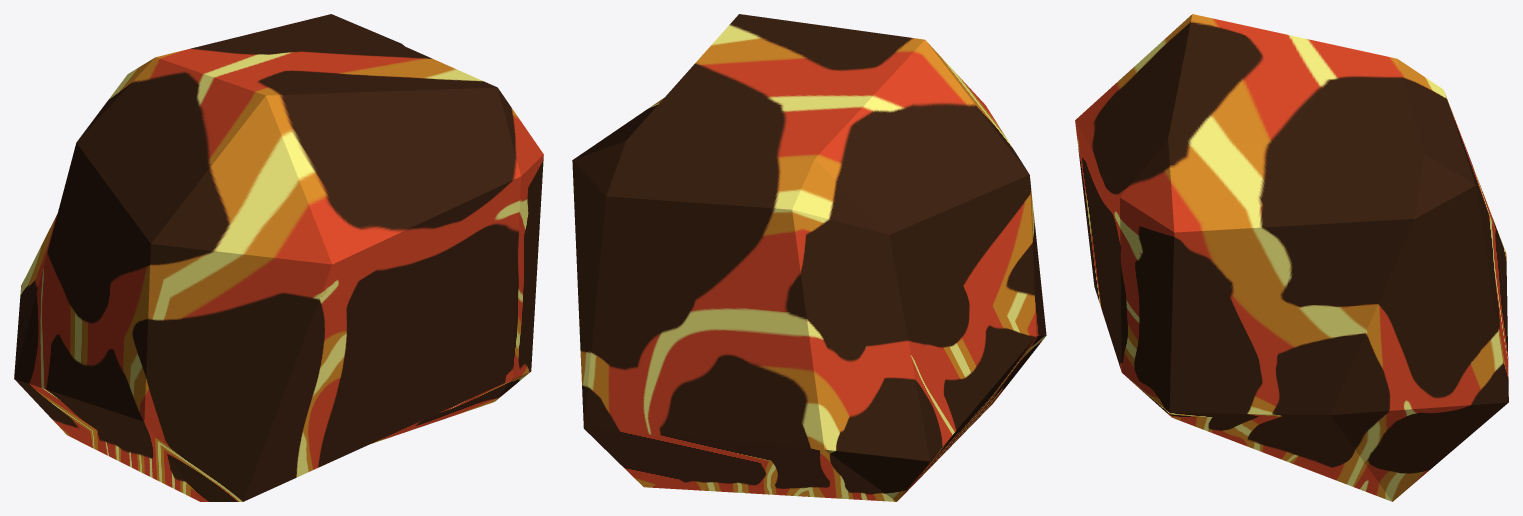
Rendered from pietro.fbx.
3 views of the same model, side by side, from view 1: azimuth 30°, elevation 25°; view 2: azimuth 150°, elevation 25°; view 3: azimuth 270°, elevation 25° (orthographic). The views are drawn at different scales.
Visible parts, largest first — view 1: Cube; view 2: Cube; view 3: Cube.
Part boxes in pixels (<box>): Cube: <box>14,14,543,501</box>; Cube: <box>572,14,1046,501</box>; Cube: <box>1075,14,1508,501</box>.
Size of the model in its own units: 2.31 by 2.34 by 2.28.
